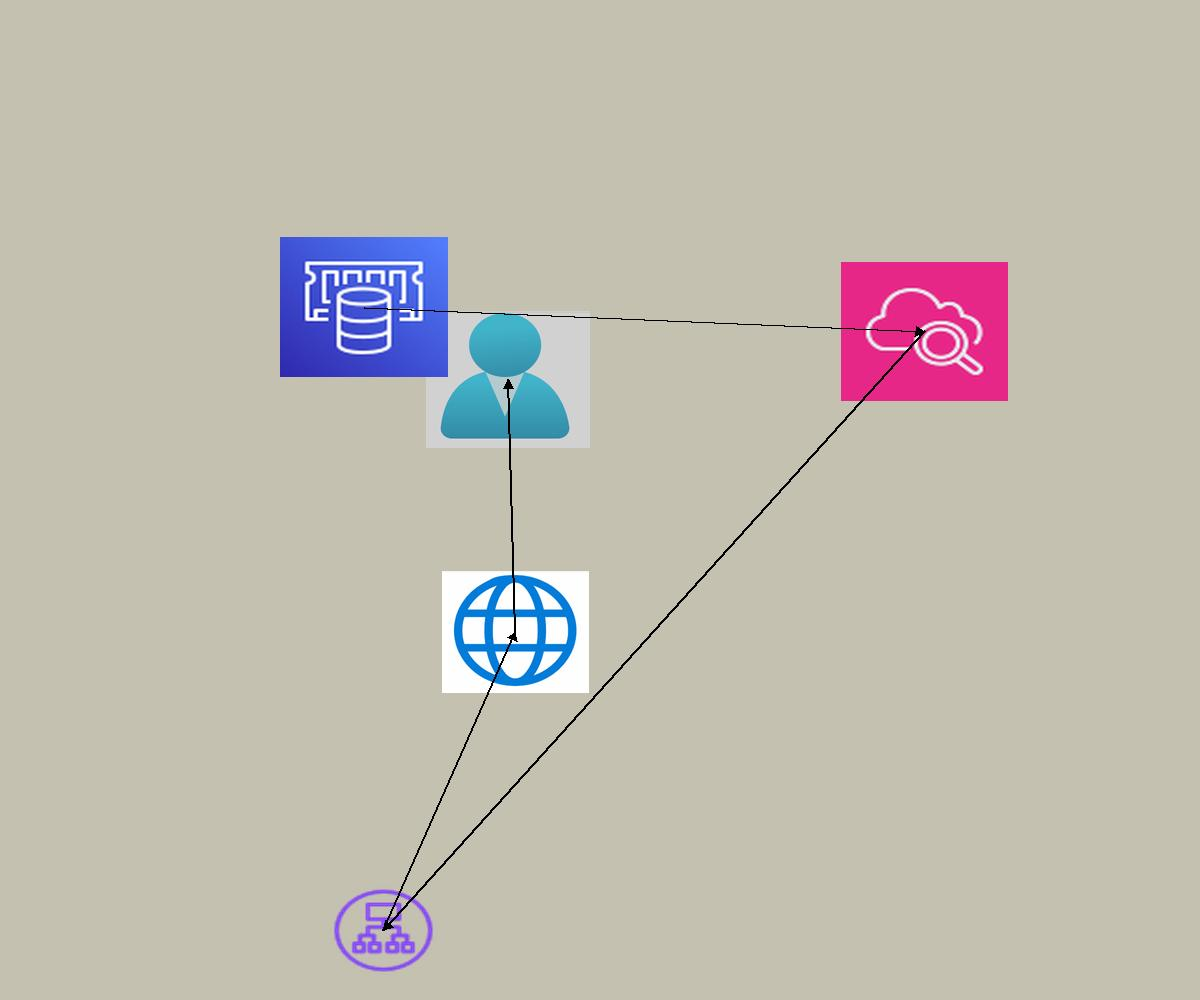AWS-CloudWatch: (841, 262, 1008, 401)
AWS-ElastiCache: (280, 237, 448, 377)
AWS-Res_Elastic-Load-Balancing_Application-Load-Balancer: (330, 886, 437, 975)
Azure_http: (442, 571, 589, 693)
Azure_users: (426, 311, 590, 448)
